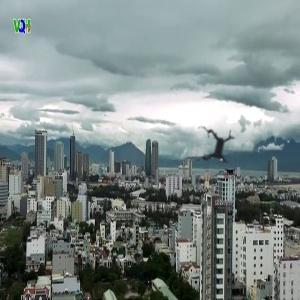drone: (175, 107, 258, 190)
